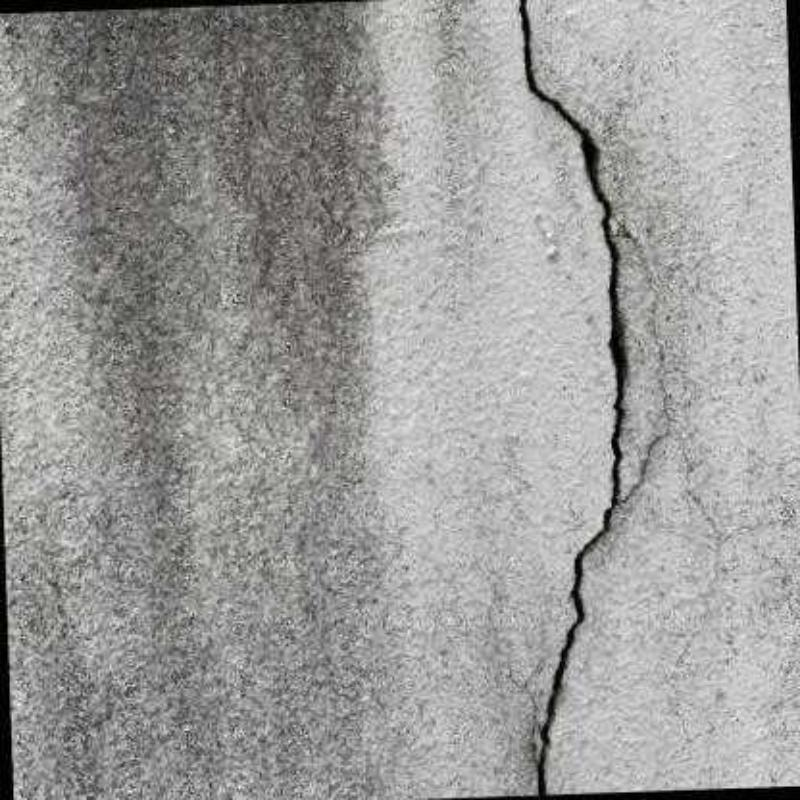crack: (515, 0, 628, 795)
